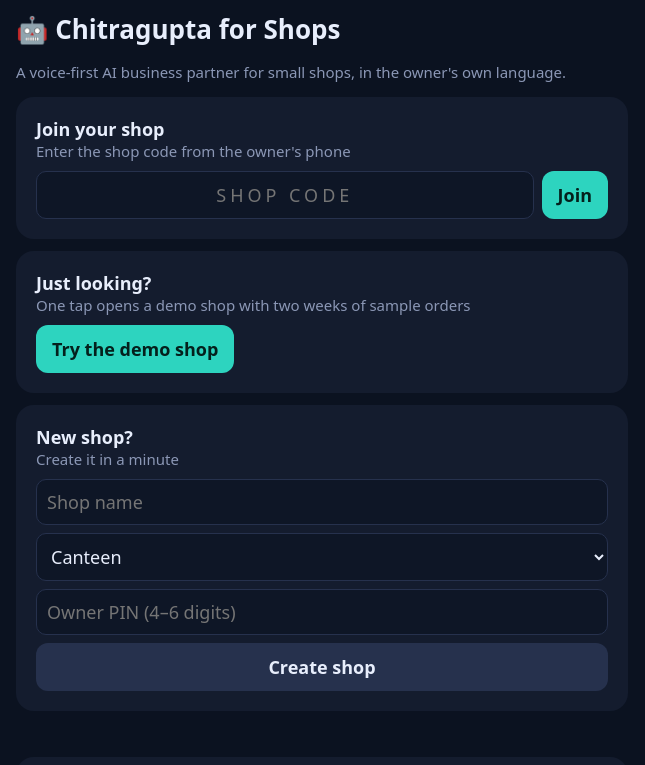
Test: Landing (multi-shop) › rejects an empty shop code
The image size is (645, 765).
Click the button "Join" at {"x": 575, "y": 195}, box [542,171,608,219]
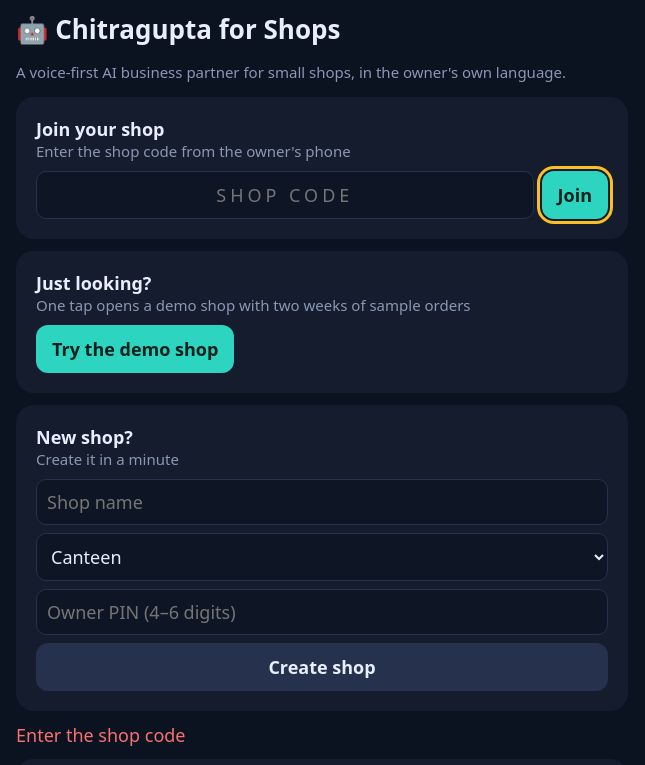
Result: the message reads "Enter the shop code" at [16,723,186,747]
